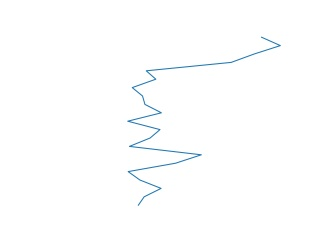crevasseRiverChannelBar: (124, 35, 283, 208)
